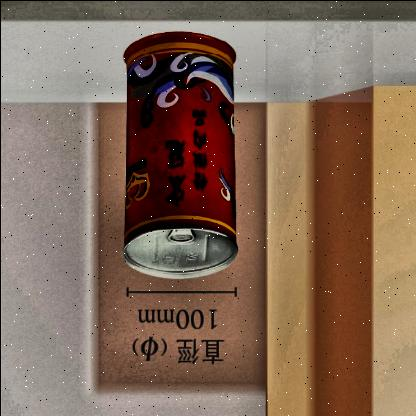Can: (118, 24, 240, 282)
